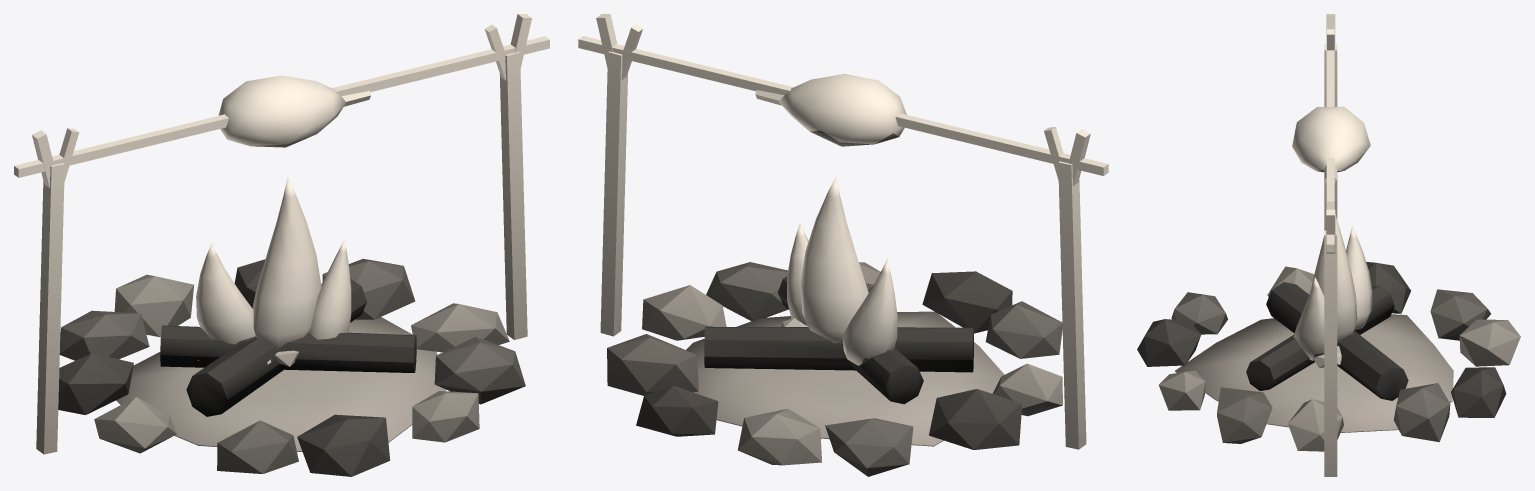
The model's file is SM_VKI_Prop_FirePit_Camp.fbx.
3 views of the same model, side by side, from view 1: azimuth 30°, elevation 25°; view 2: azimuth 150°, elevation 25°; view 3: azimuth 270°, elevation 25° (orthographic). The views are drawn at different scales.
Visible parts, largest first — view 1: SM_VKI_Prop_FirePit_Camp.001; view 2: SM_VKI_Prop_FirePit_Camp.001; view 3: SM_VKI_Prop_FirePit_Camp.001.
Part boxes in pixels (x1,y1,x2,y2): SM_VKI_Prop_FirePit_Camp.001: (14, 14, 549, 476); SM_VKI_Prop_FirePit_Camp.001: (578, 14, 1108, 476); SM_VKI_Prop_FirePit_Camp.001: (1137, 14, 1520, 476).
Size of the model in its own units: 1.4 by 0.8221 by 1.05.
